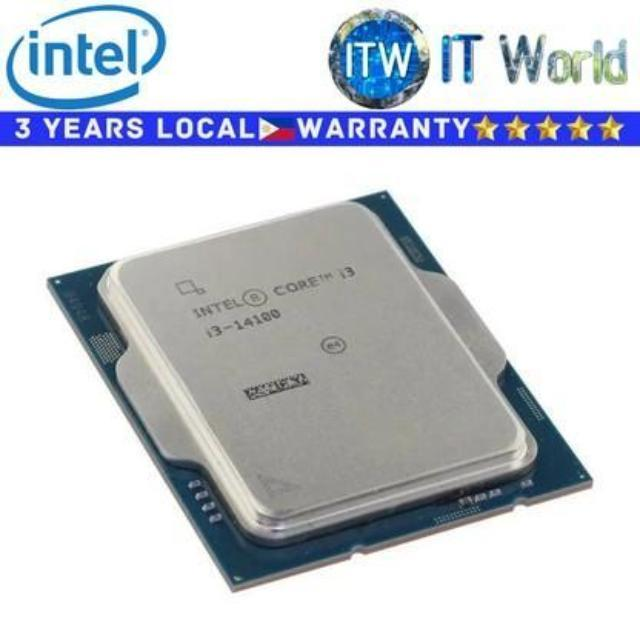CPU: (96, 198, 544, 572)
